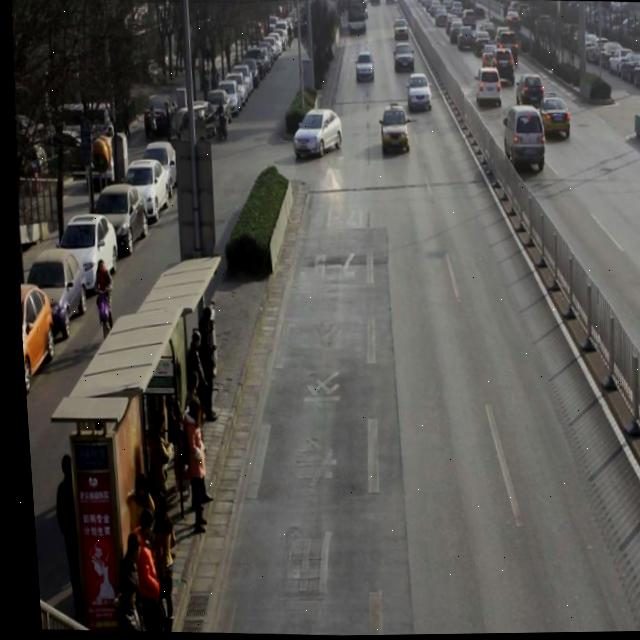car: (289, 105, 342, 157), (536, 90, 571, 140), (378, 101, 409, 154), (474, 67, 502, 107), (404, 71, 431, 112), (514, 73, 544, 109), (493, 47, 516, 83), (391, 42, 414, 73), (353, 50, 373, 83), (497, 31, 518, 61), (456, 25, 475, 50), (479, 41, 497, 66), (472, 31, 491, 54), (392, 18, 409, 41), (448, 18, 464, 42), (503, 10, 521, 29), (489, 26, 506, 44), (481, 19, 496, 35)
truck: (499, 105, 546, 172)
